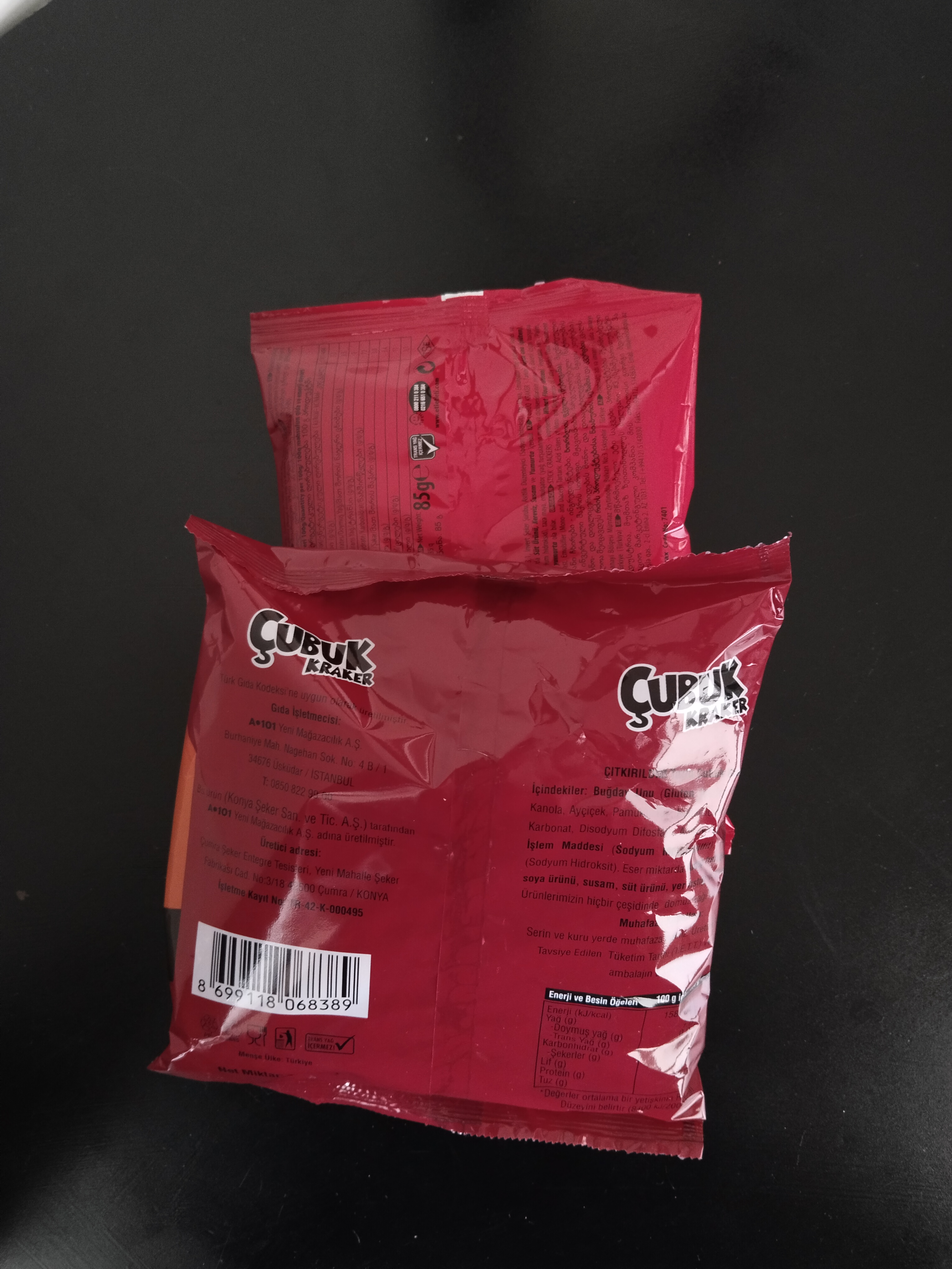citkirildim_cubuk_kraker: (154, 516, 793, 1152)
eti_crax_cubuk_kraker: (249, 277, 697, 576)
